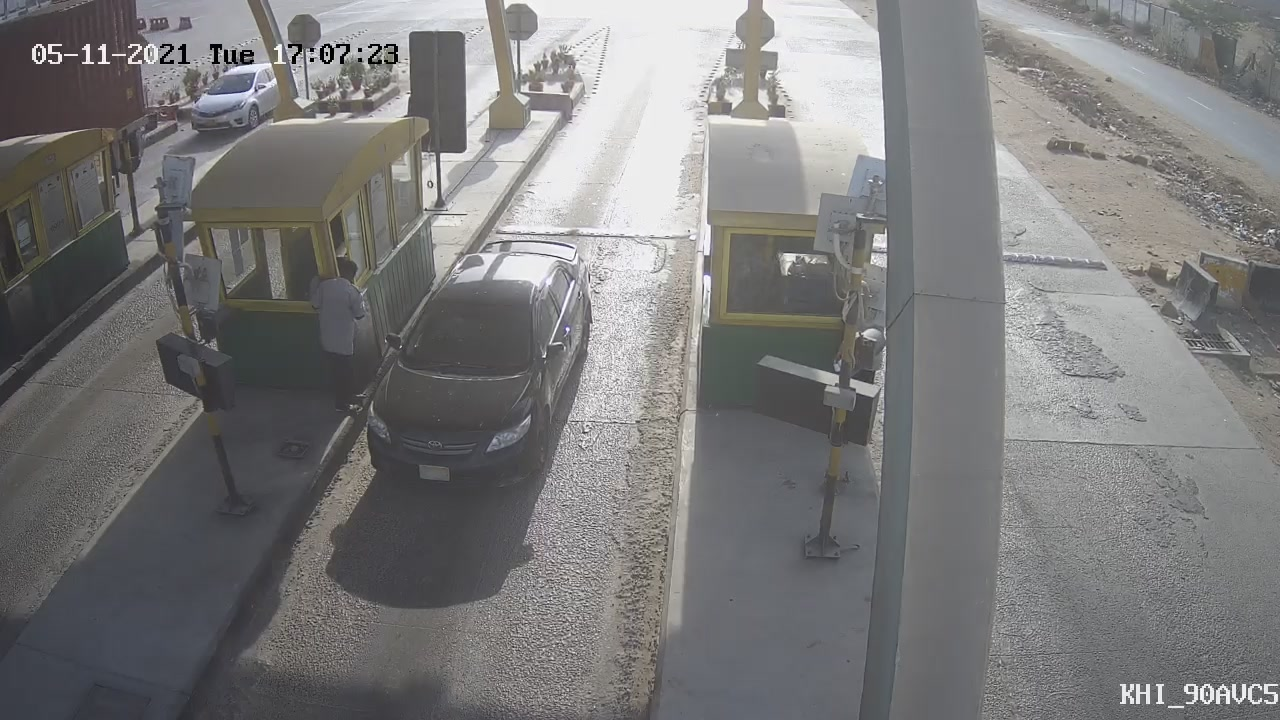F1: (346, 221, 611, 511)
